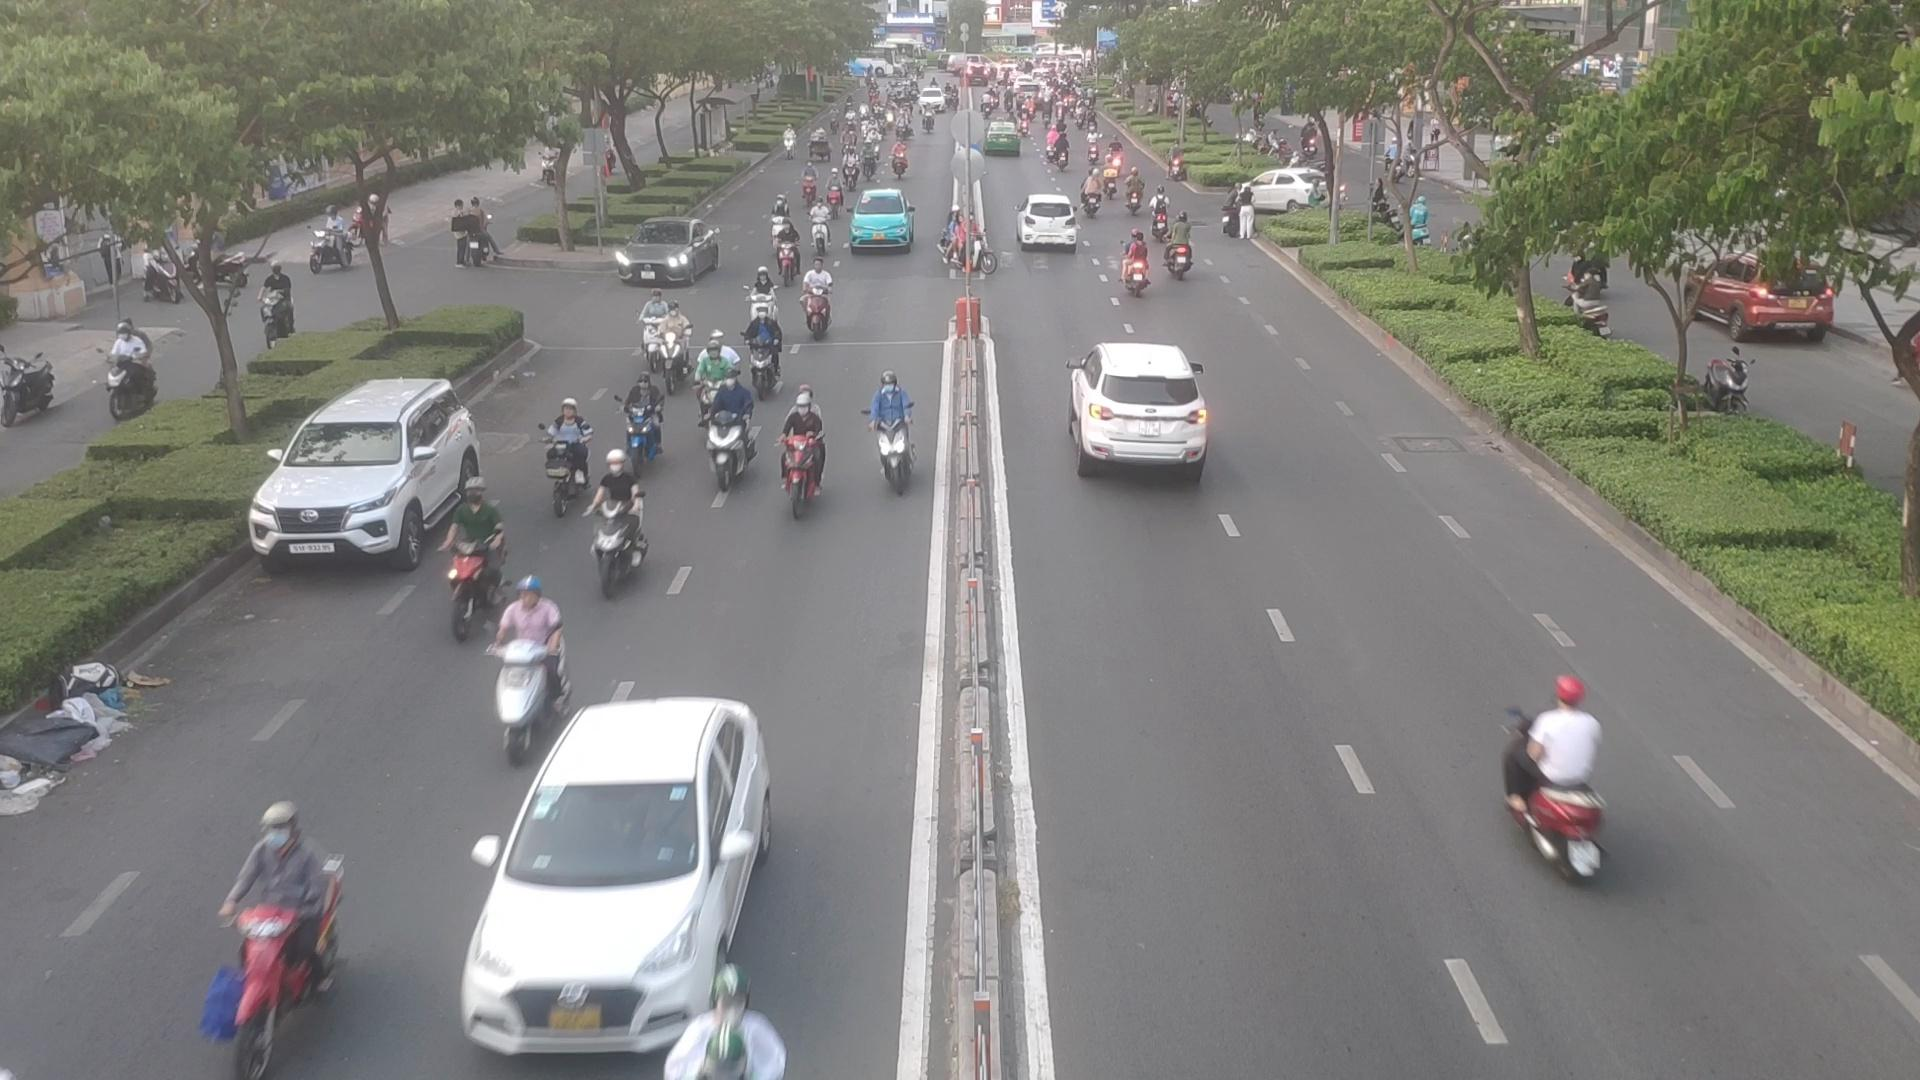car: (465, 692, 775, 1062), (251, 380, 491, 575), (1075, 347, 1212, 465), (615, 219, 723, 291), (851, 190, 920, 255), (1018, 193, 1081, 251)
motorbike: (211, 810, 345, 1069), (1491, 680, 1622, 894), (497, 575, 574, 742), (438, 480, 502, 641), (597, 460, 653, 603), (864, 357, 916, 500), (789, 392, 848, 512), (712, 375, 765, 495), (541, 393, 585, 521), (616, 378, 659, 480), (665, 303, 709, 393), (632, 289, 676, 368), (1166, 204, 1205, 291), (938, 214, 988, 276), (698, 334, 735, 415), (738, 265, 775, 345), (796, 260, 833, 340), (750, 305, 782, 396), (1125, 237, 1158, 301), (775, 237, 807, 287), (767, 185, 794, 243), (1083, 171, 1112, 222), (808, 200, 825, 255), (1151, 191, 1171, 236), (799, 170, 824, 204), (1124, 167, 1141, 216), (829, 175, 848, 218)
